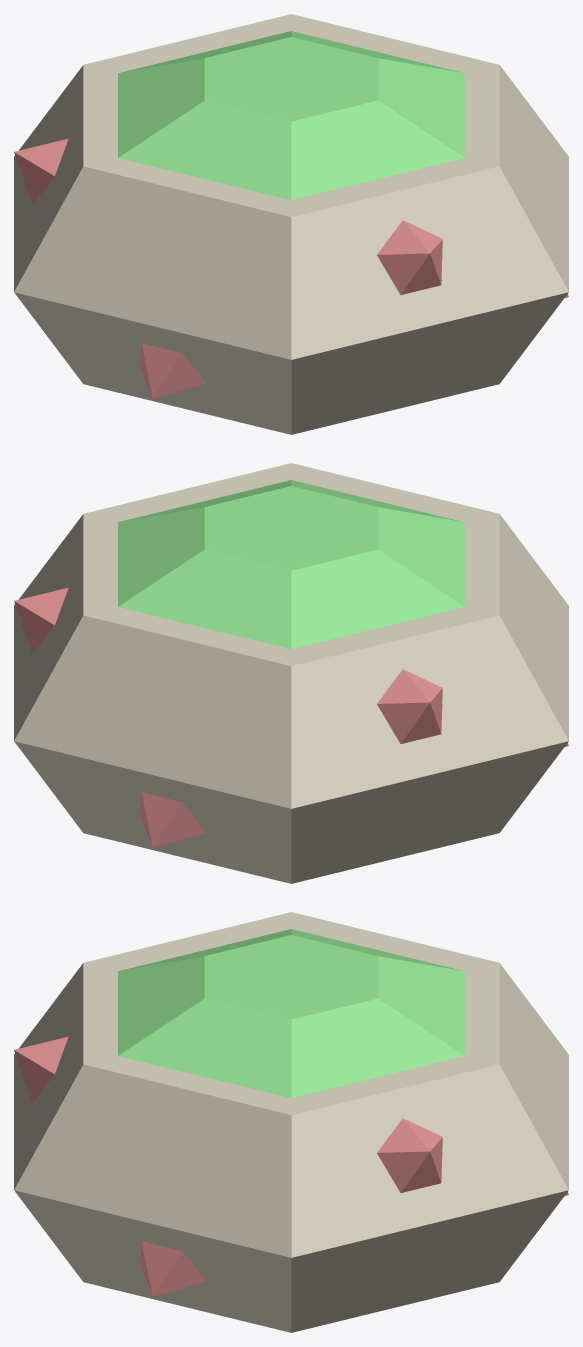
Rendered from Travelstone.fbx.
3 views of the same model, one above another, from view 1: azimuth 30°, elevation 25°; view 2: azimuth 150°, elevation 25°; view 3: azimuth 270°, elevation 25° (orthographic).
Parts seen in each view (by area): view 1: Travelstone; view 2: Travelstone; view 3: Travelstone.
Boxes of the visible parts, <box> form: Travelstone: <box>14,14,568,434</box>; Travelstone: <box>14,463,568,883</box>; Travelstone: <box>14,912,568,1332</box>.
Bounding box in the file's own units: 0.16 × 0.08 × 0.1386.
